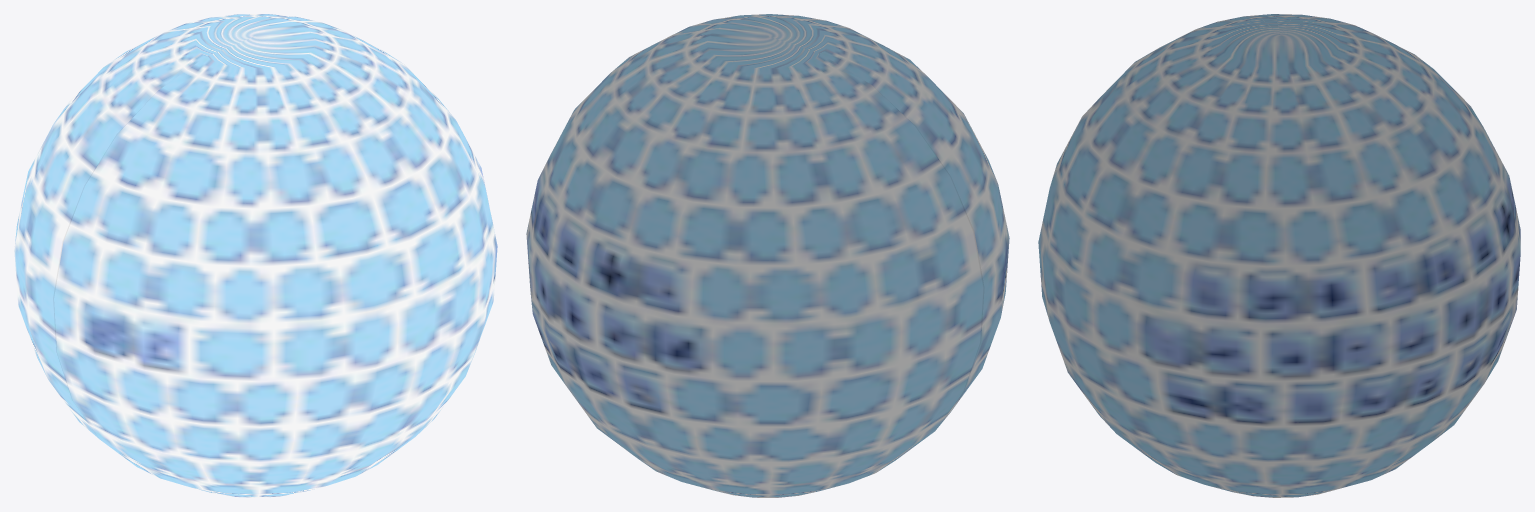
Rendered from icon.ico.obj.
3 views of the same model, side by side, from view 1: azimuth 30°, elevation 25°; view 2: azimuth 150°, elevation 25°; view 3: azimuth 270°, elevation 25° (orthographic).
Size of the model in its own units: 4.97 by 4.99 by 4.96.
1 material, 1 textured.
